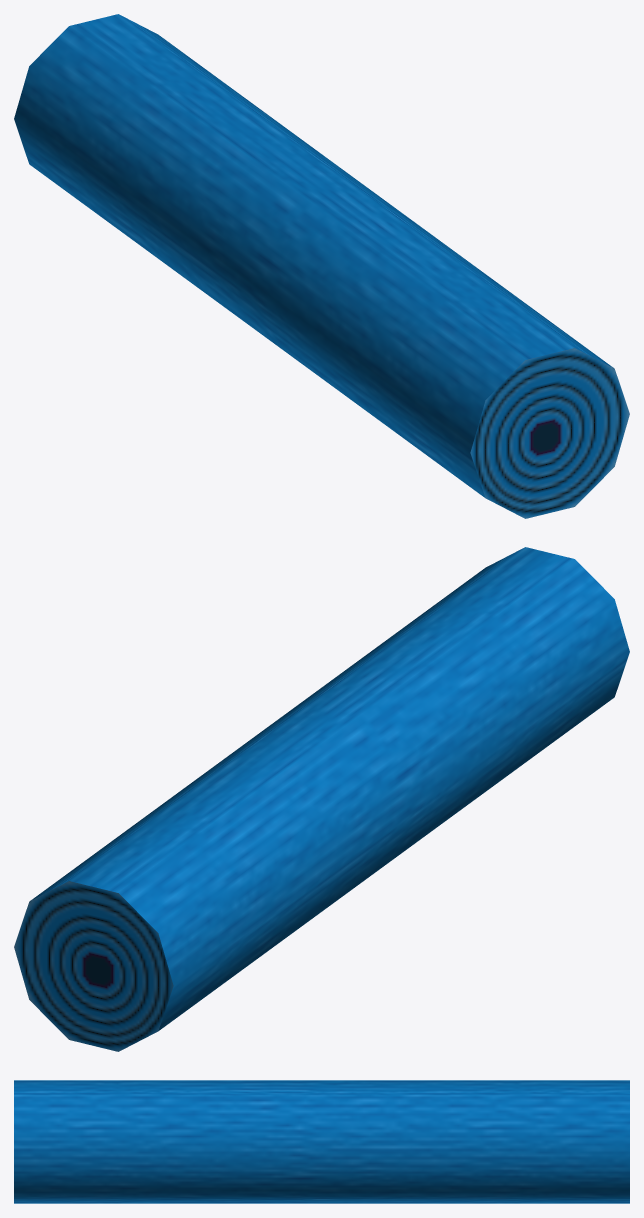
File: Yoga_Mat_Roll_A.FBX
The picture shows the model from 3 angles, top to bottom: view 1: azimuth 30°, elevation 25°; view 2: azimuth 150°, elevation 25°; view 3: azimuth 270°, elevation 25°; orthographic projection. The views are drawn at different scales.
Visible parts, largest first — view 1: Yogamat_Roll; view 2: Yogamat_Roll; view 3: Yogamat_Roll.
Part boxes in pixels (x1,y1,x2,y2): Yogamat_Roll: (14,14,629,518); Yogamat_Roll: (14,547,629,1051); Yogamat_Roll: (14,1080,629,1203).
Size of the model in its own units: 29.29 by 27.86 by 145.
